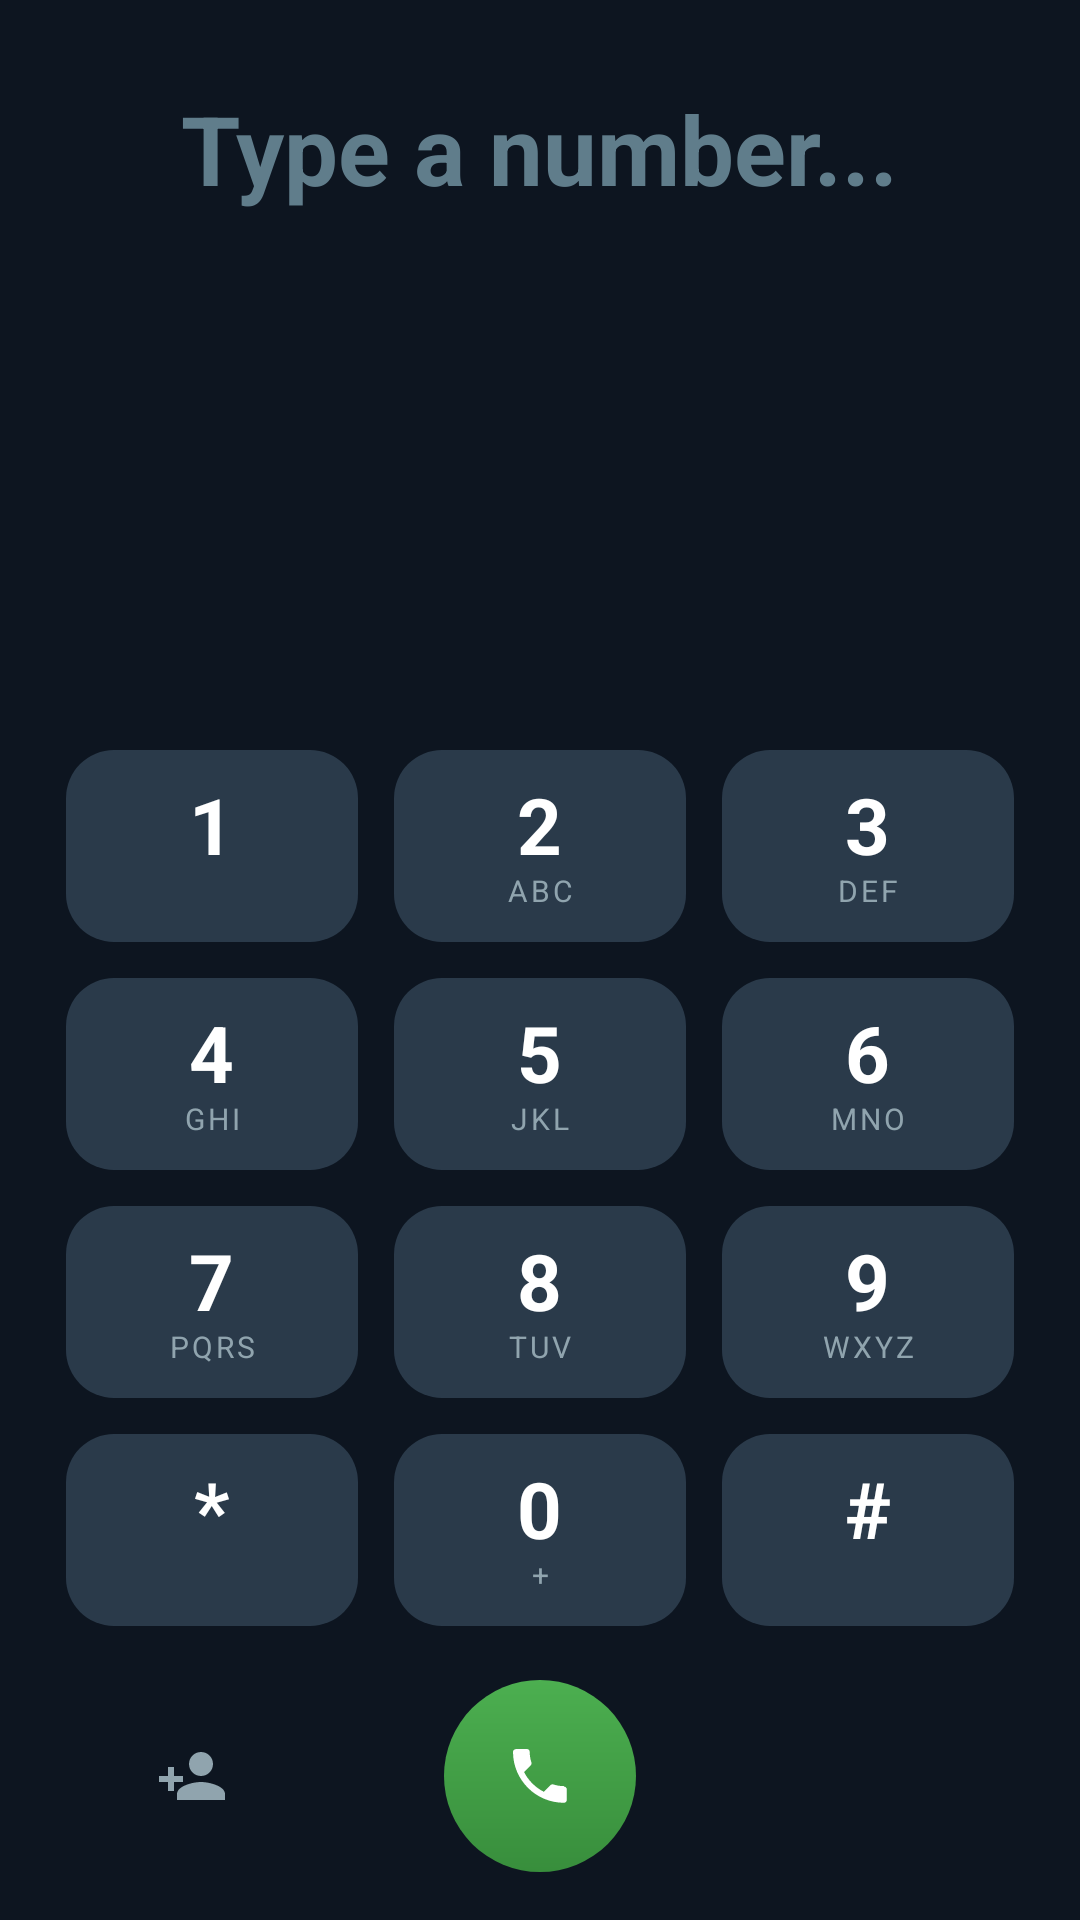

Where icons sit on this 1080w x 1920h app screen, as (x1, y1, x2, y2):
Add Contact: (159, 1752, 225, 1800)
Call: (444, 1680, 636, 1872)
